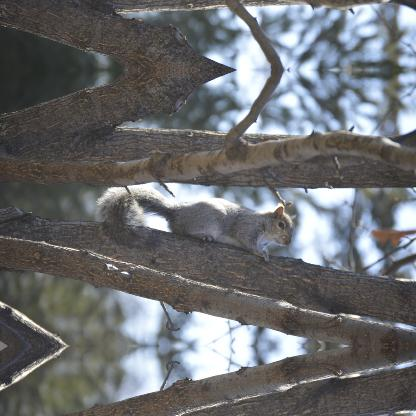Squirrel: (89, 182, 297, 260)
